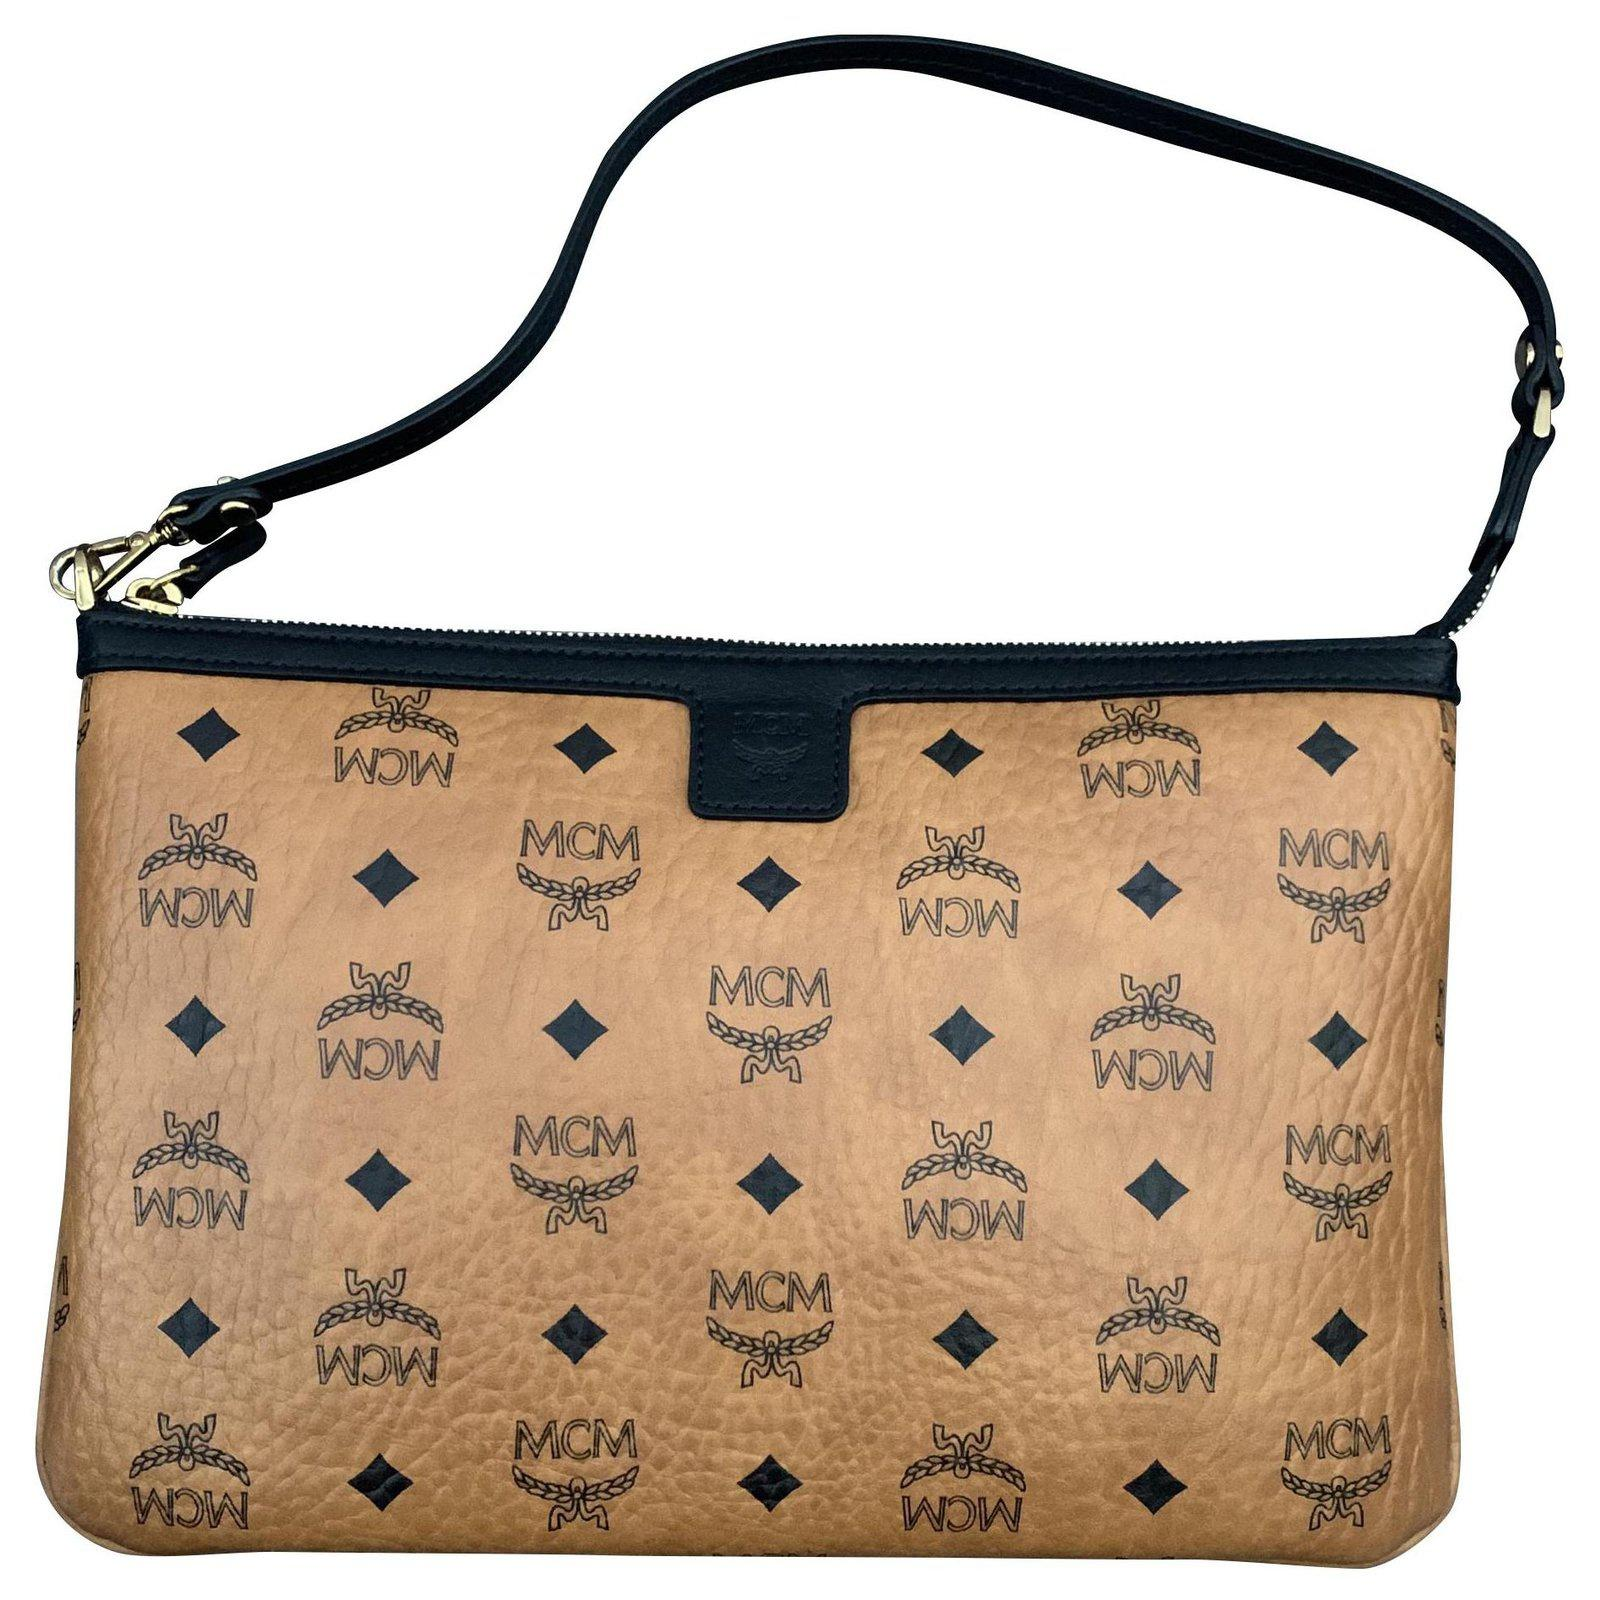MCM: (51, 607, 1486, 1582)
